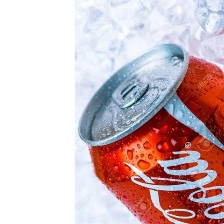can: (74, 40, 224, 223)
